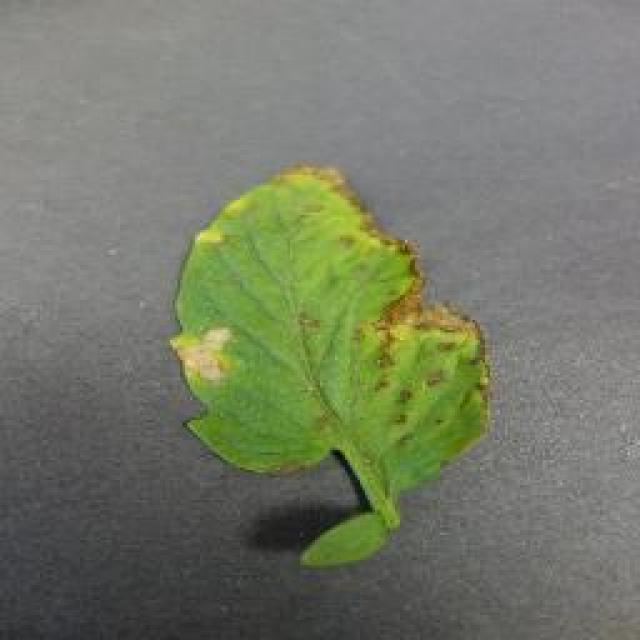Tomato___Bacterial_spot: (161, 162, 493, 567)
